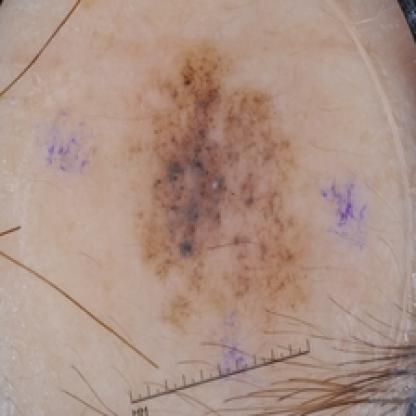Skin_Cancer-Malignant: (136, 46, 307, 314)
